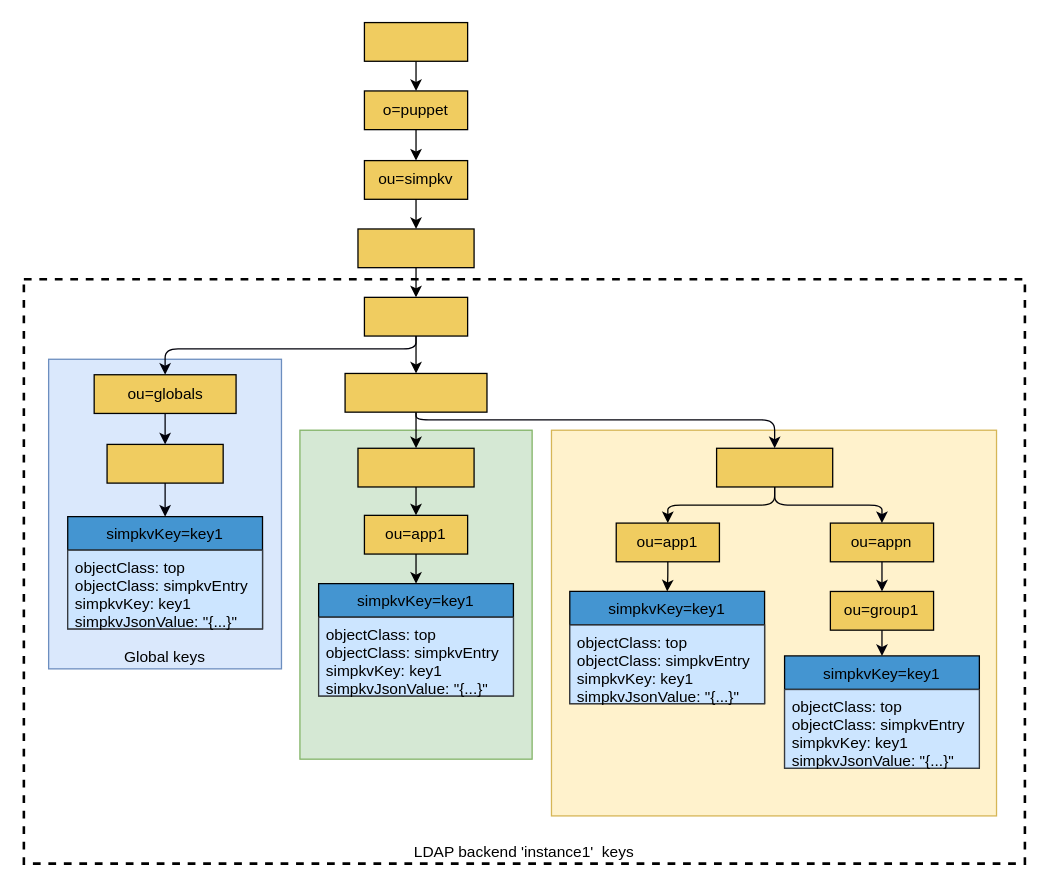
The diagram is 1047 pixels wide and 888 high, and some of its shapes have lost their labels. Here are the shapes that lost their labels. From the top down, the box of each, then its label:
(363, 21, 468, 61): dc=simp
(357, 228, 474, 268): ou=instances
(363, 296, 468, 336): ou=instance1
(344, 372, 487, 412): ou=environments
(106, 443, 223, 483): ou=global_app1
(357, 447, 474, 487): ou=production
(715, 447, 833, 487): ou=test
(299, 429, 532, 759): Puppet 'production' environment keys
(550, 429, 997, 816): Puppet 'test' environment keys
